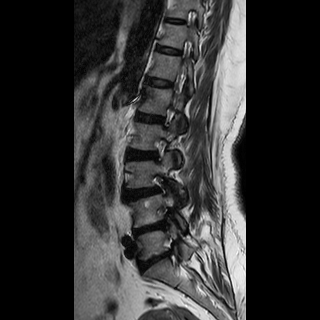LFS0: (146, 132, 172, 170), (151, 100, 179, 132)
LFS1: (144, 169, 172, 201)
